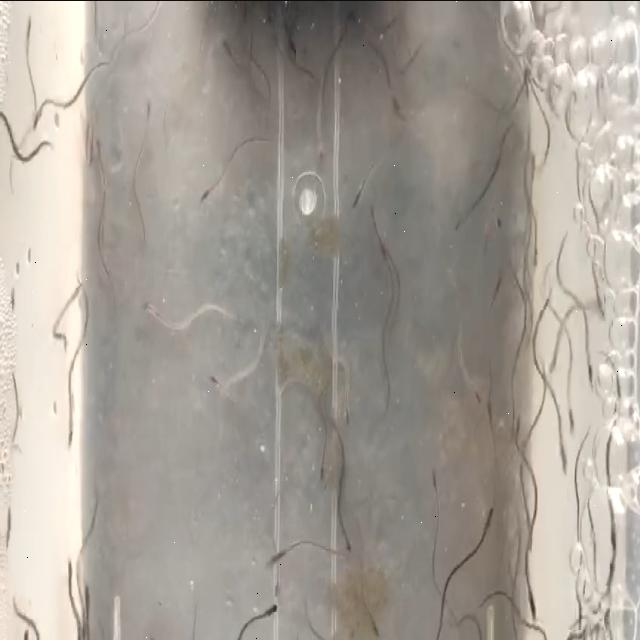active_glass_eel: (366, 188, 396, 228), (348, 164, 364, 228), (526, 230, 548, 272), (193, 174, 210, 228), (65, 266, 89, 304), (310, 134, 328, 184), (551, 440, 574, 478), (422, 458, 448, 491), (486, 486, 508, 522), (82, 573, 99, 617), (142, 288, 156, 340), (262, 540, 280, 580), (310, 456, 328, 492), (488, 271, 507, 305), (334, 389, 354, 421), (202, 365, 218, 403), (586, 338, 600, 381), (338, 522, 353, 562), (521, 589, 542, 617), (214, 38, 229, 76), (90, 128, 104, 168), (24, 107, 44, 134), (134, 99, 156, 121), (262, 596, 284, 618), (64, 556, 78, 590), (467, 374, 477, 414), (66, 416, 78, 442), (570, 397, 578, 425), (24, 18, 40, 31)
